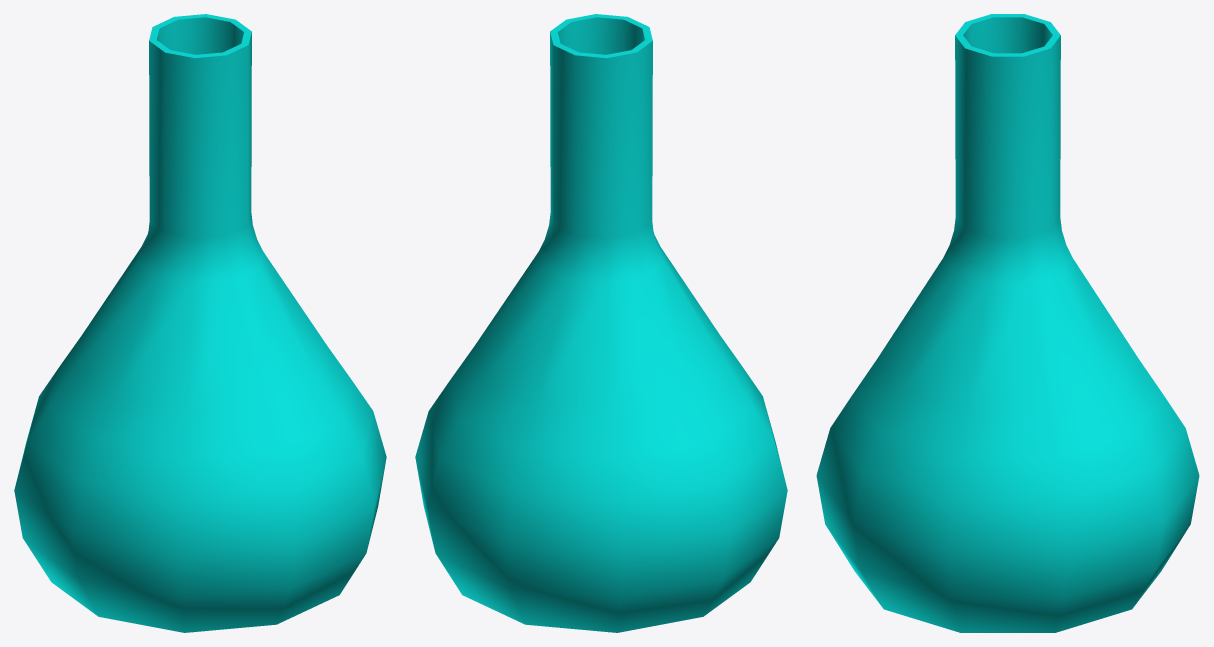
The model's file is Beaker.fbx.
3 views of the same model, side by side, from view 1: azimuth 30°, elevation 25°; view 2: azimuth 150°, elevation 25°; view 3: azimuth 270°, elevation 25° (orthographic).
Visible parts, largest first — view 1: Cylinder.123; view 2: Cylinder.123; view 3: Cylinder.123.
Boxes of the visible parts, box(x1,y1,x2,y2) form: Cylinder.123: box(14, 14, 386, 632); Cylinder.123: box(415, 14, 787, 632); Cylinder.123: box(816, 14, 1199, 632).
Bounding box in the file's own units: 0.1876 × 0.3154 × 0.1972.
